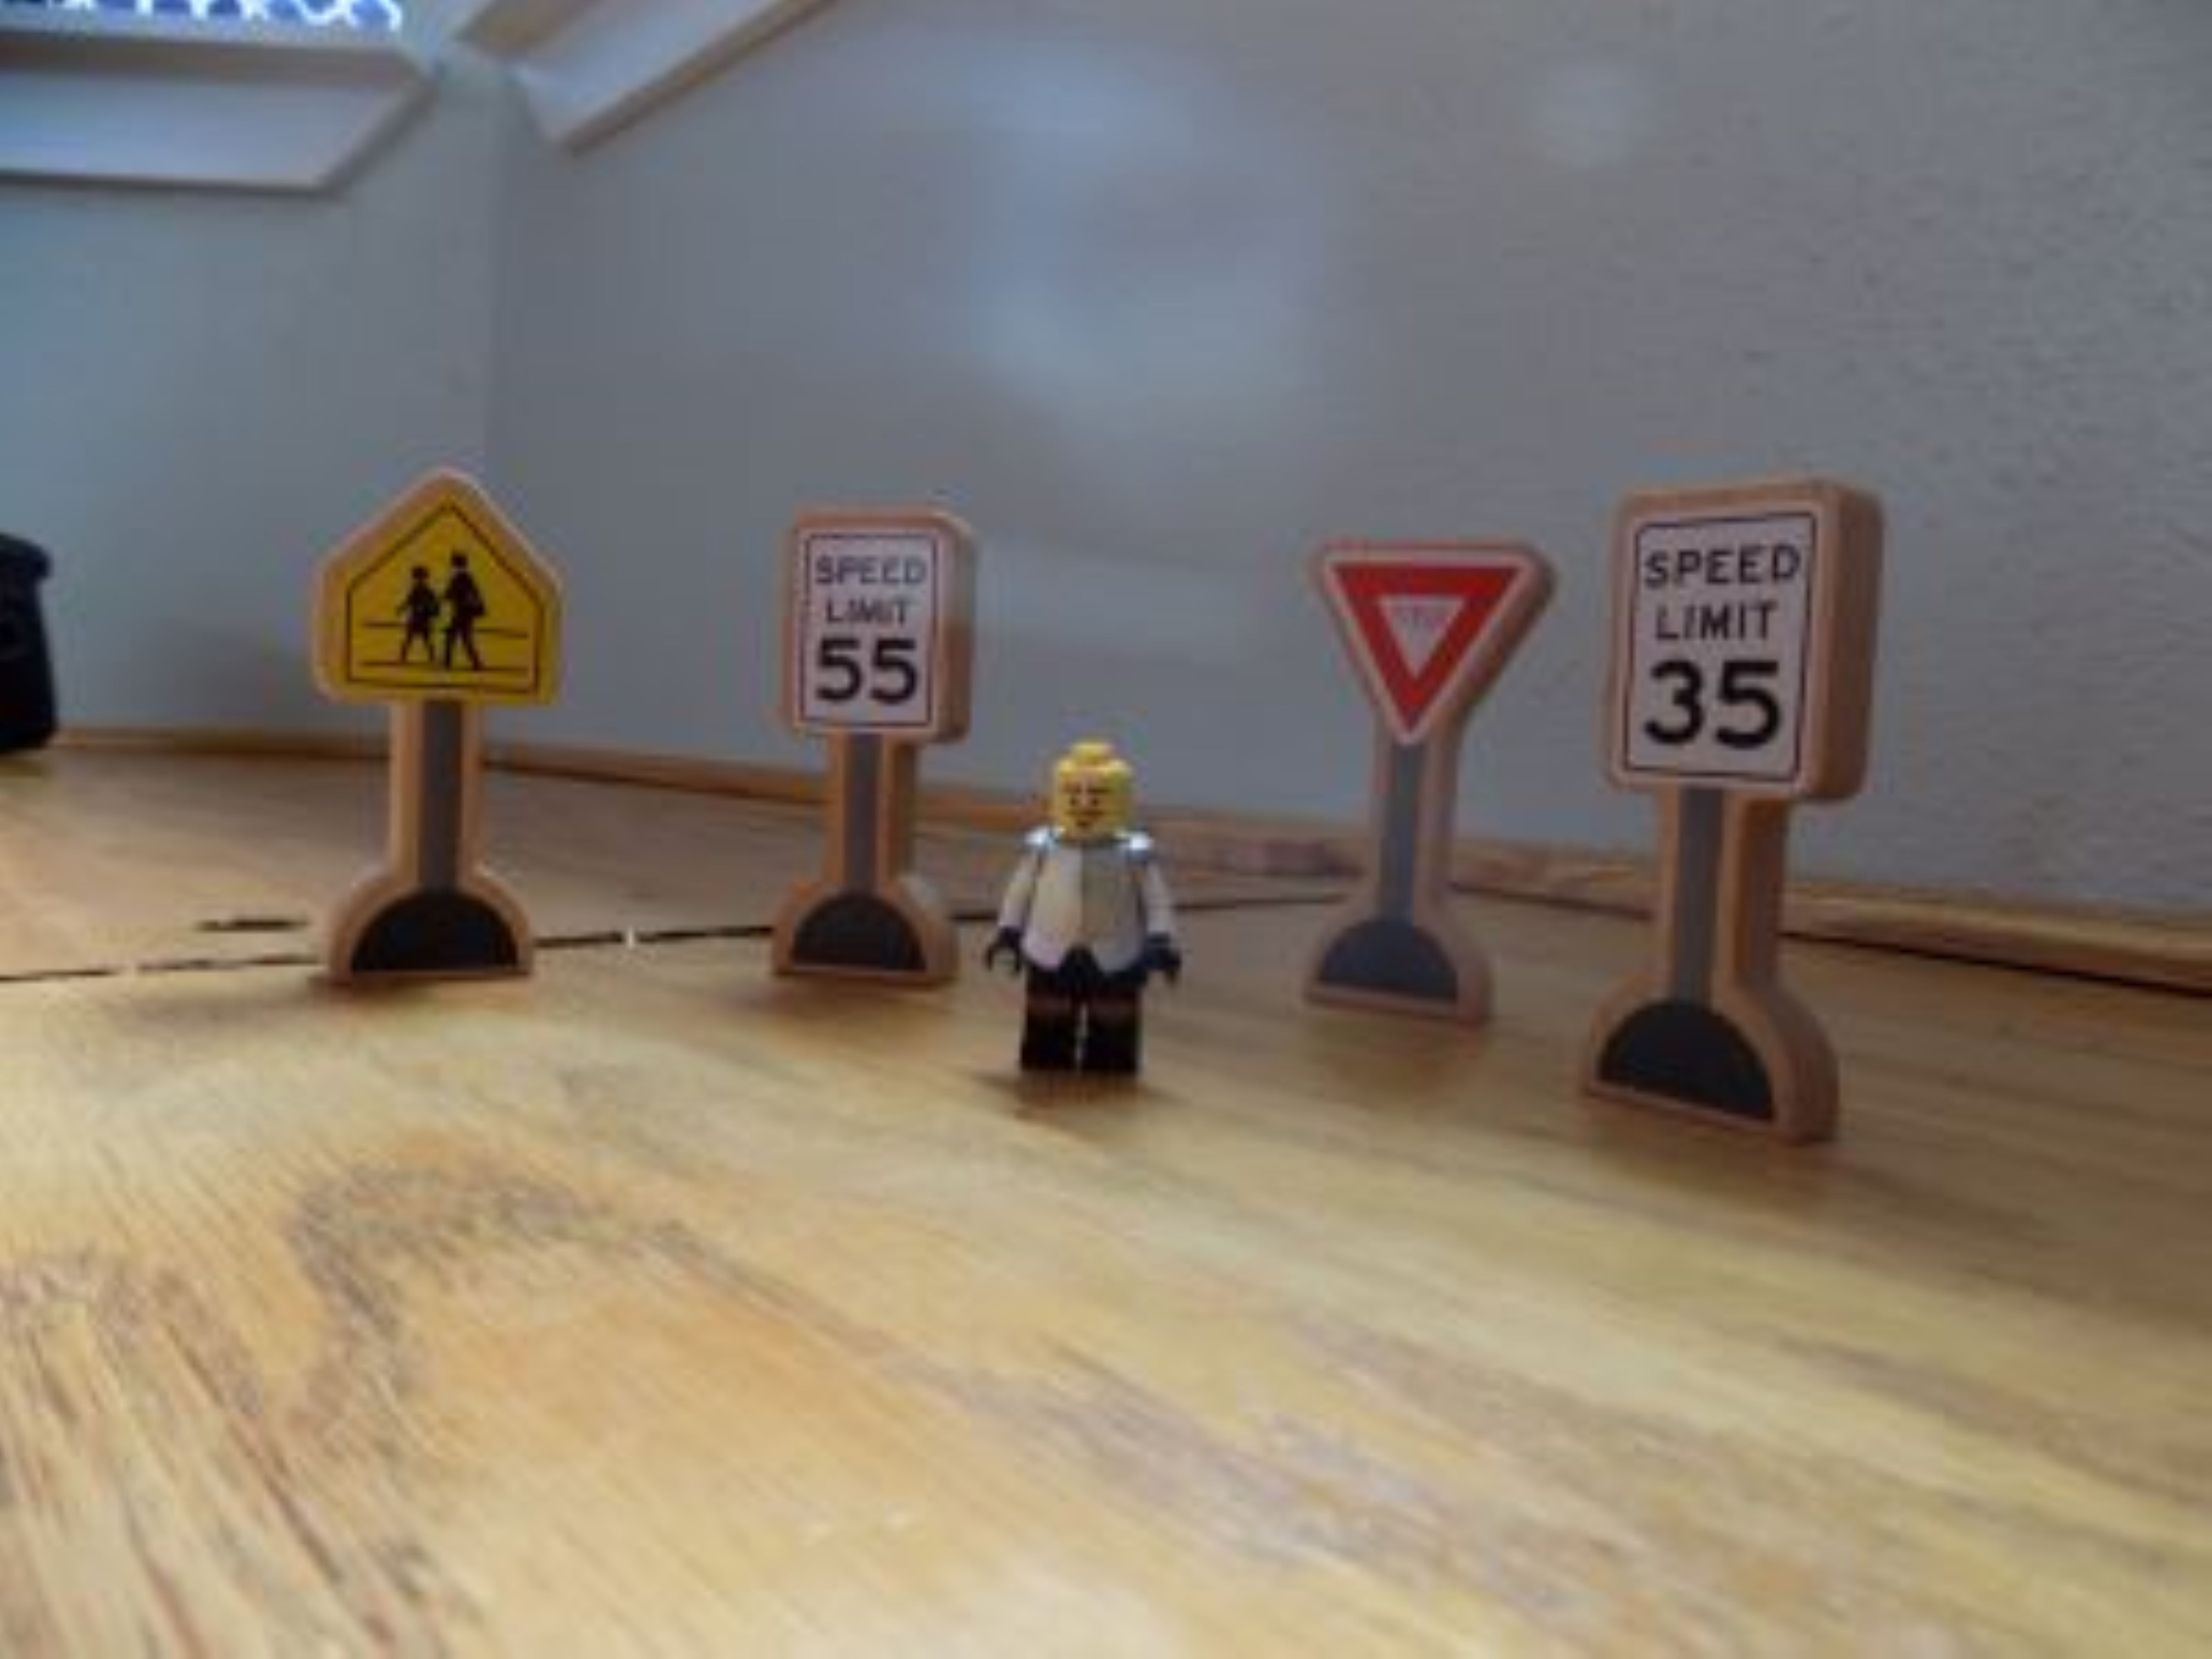Pedestrians: (307, 455, 597, 738)
Person: (988, 756, 1205, 1068)
Speed Limit 35: (1620, 496, 1842, 797)
Speed Limit 55: (782, 489, 983, 778)
Yield Sign: (1296, 539, 1559, 745)
